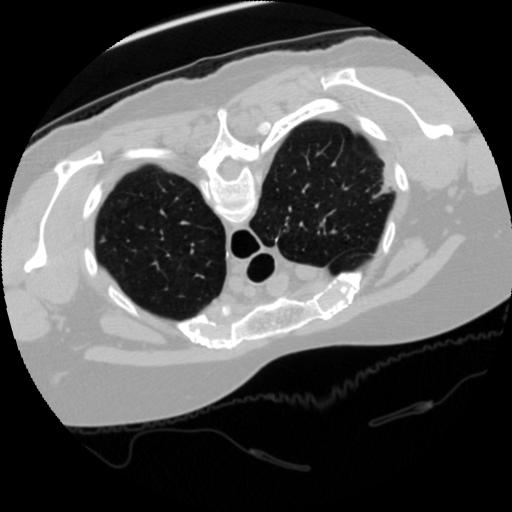nodule: (96, 233, 111, 248)
